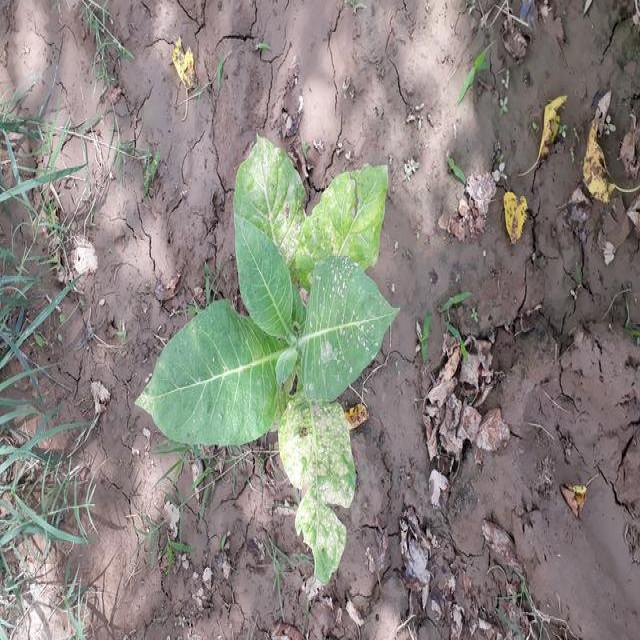crop: (138, 149, 378, 576)
